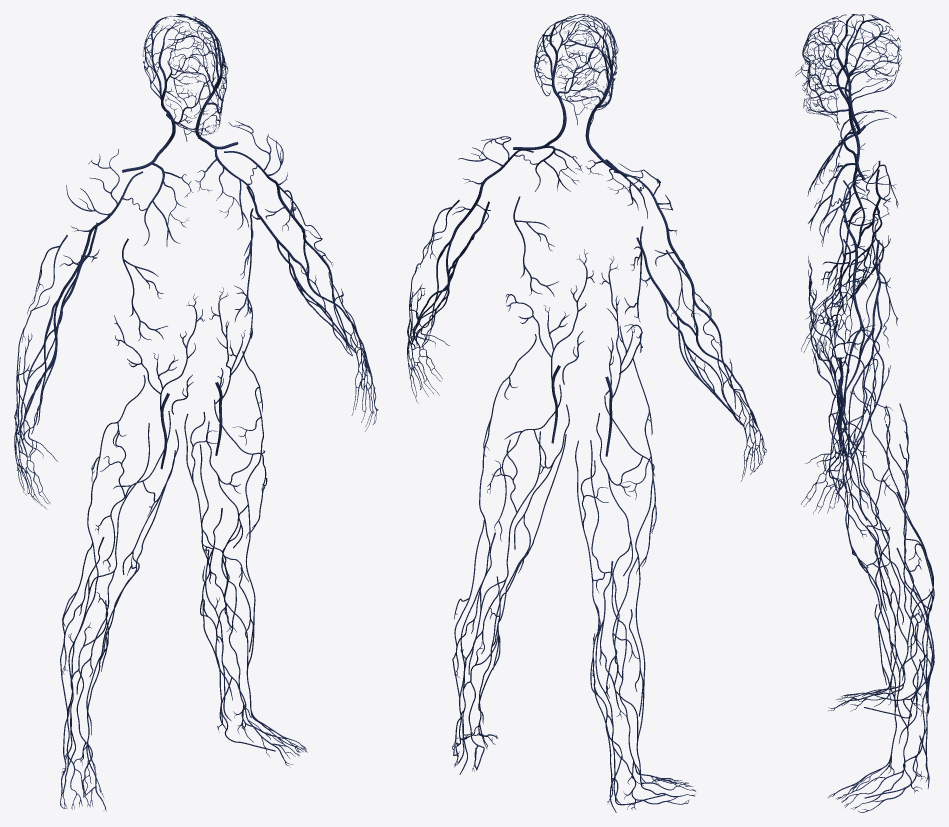
The model's file is vessels.glb.
3 views of the same model, side by side, from view 1: azimuth 30°, elevation 25°; view 2: azimuth 150°, elevation 25°; view 3: azimuth 270°, elevation 25° (orthographic). The views are drawn at different scales.
Visible parts, largest first — view 1: Veins_r, Veins_l; view 2: Veins_r, Veins_l; view 3: Veins_l, Veins_r.
Boxes of the visible parts, bbox=[...] form: Veins_r: bbox=[14, 16, 213, 811]; Veins_l: bbox=[166, 14, 378, 767]; Veins_r: bbox=[557, 15, 766, 812]; Veins_l: bbox=[407, 14, 602, 774]; Veins_l: bbox=[795, 19, 934, 812]; Veins_r: bbox=[795, 14, 934, 718].
Size of the model in its own units: 0.8532 by 1.79 by 0.3043.
